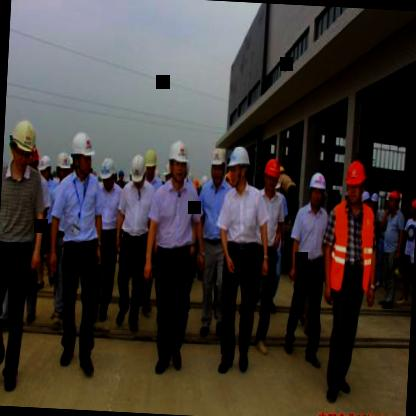helmet: (7, 114, 36, 174), (340, 156, 368, 204), (68, 130, 94, 177), (226, 145, 252, 188), (166, 136, 188, 184), (305, 169, 328, 209), (260, 152, 280, 194), (126, 153, 146, 194), (95, 156, 116, 192), (54, 151, 74, 187), (207, 148, 226, 185), (142, 146, 158, 182), (38, 151, 52, 186), (386, 186, 400, 212), (406, 196, 416, 220)
